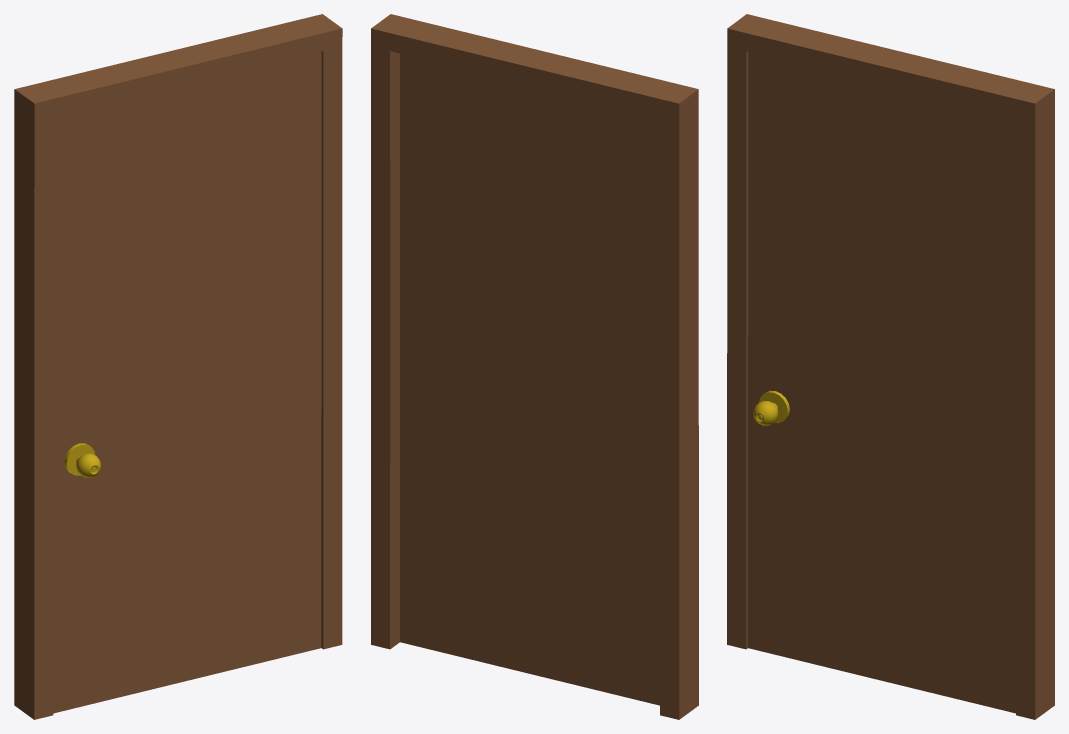
File: Door2.fbx
3 views of the same model, side by side, from view 1: azimuth 30°, elevation 25°; view 2: azimuth 150°, elevation 25°; view 3: azimuth 330°, elevation 25° (orthographic).
Parts seen in each view (by area): view 1: Door2; view 2: Door2; view 3: Door2.
Boxes of the visible parts, <box> form: Door2: <box>14,14,342,719</box>; Door2: <box>371,14,698,719</box>; Door2: <box>727,14,1054,719</box>.
Size of the model in its own units: 80.56 by 428 by 817.
